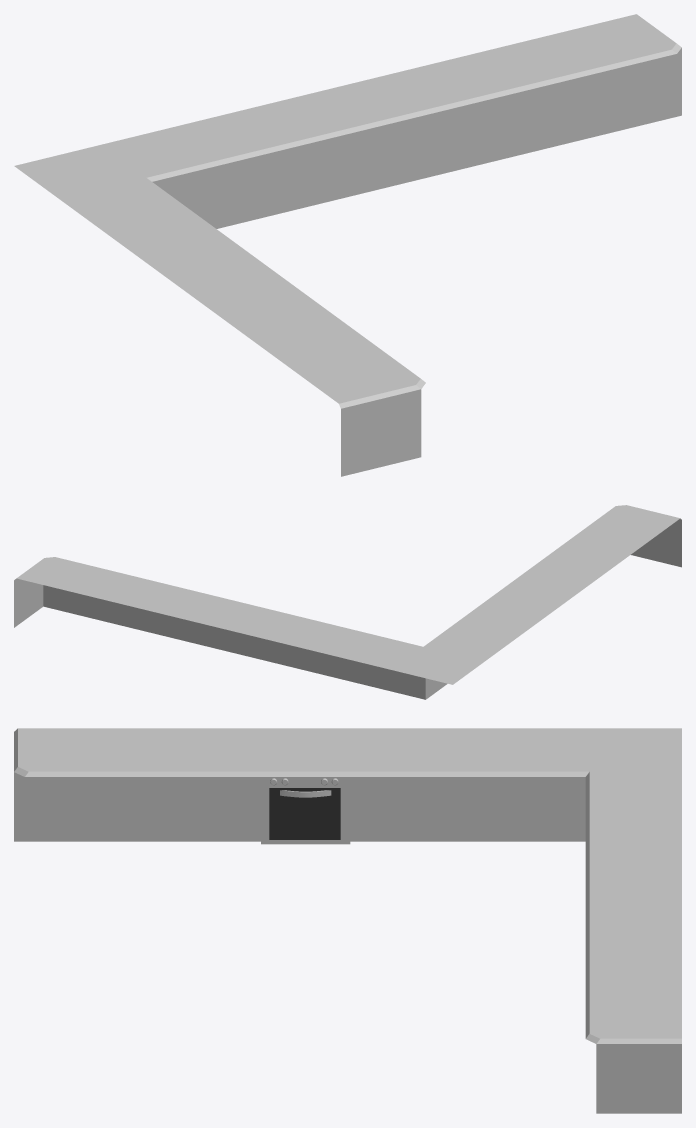
Rendered from Counter.fbx.
3 views of the same model, one above another, from view 1: azimuth 30°, elevation 25°; view 2: azimuth 150°, elevation 25°; view 3: azimuth 270°, elevation 25° (orthographic). The views are drawn at different scales.
Visible parts, largest first — view 1: Counter; view 2: Counter; view 3: Counter.
Boxes of the visible parts, left/top/right/bottom form: Counter: left=14, top=14, right=681, bottom=476; Counter: left=14, top=505, right=681, bottom=699; Counter: left=14, top=728, right=681, bottom=1113.
Bounding box in the file's own units: 800 × 87.5 × 723.
